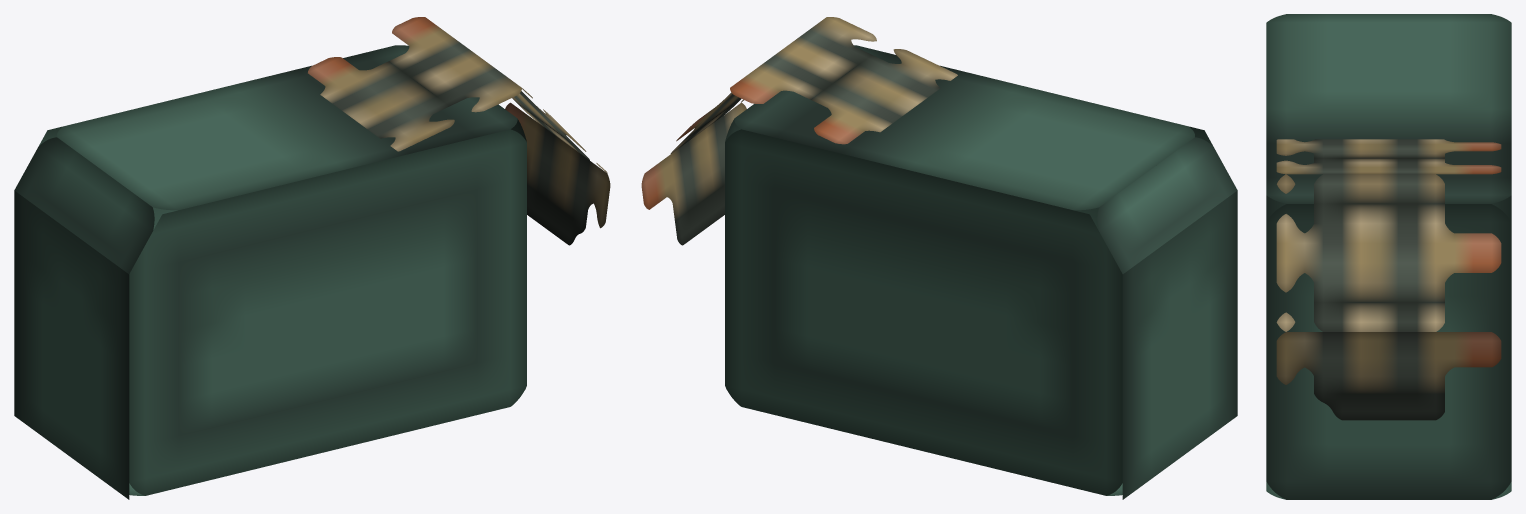
The model's file is AMMO.fbx.
3 renders of one model, left to right at view 1: azimuth 30°, elevation 25°; view 2: azimuth 150°, elevation 25°; view 3: azimuth 270°, elevation 25°, orthographic. The views are drawn at different scales.
Parts seen in each view (by area): view 1: mesh, plane; view 2: mesh, plane; view 3: mesh, plane.
Boxes of the visible parts, bbox=[...] form: mesh: bbox=[14, 45, 526, 499]; plane: bbox=[308, 17, 610, 245]; mesh: bbox=[725, 45, 1237, 499]; plane: bbox=[641, 17, 957, 245]; mesh: bbox=[1266, 14, 1511, 499]; plane: bbox=[1276, 139, 1501, 420].
Bounding box in the file's own units: 91.86 × 55.36 × 37.5.
1 material, 1 textured.
